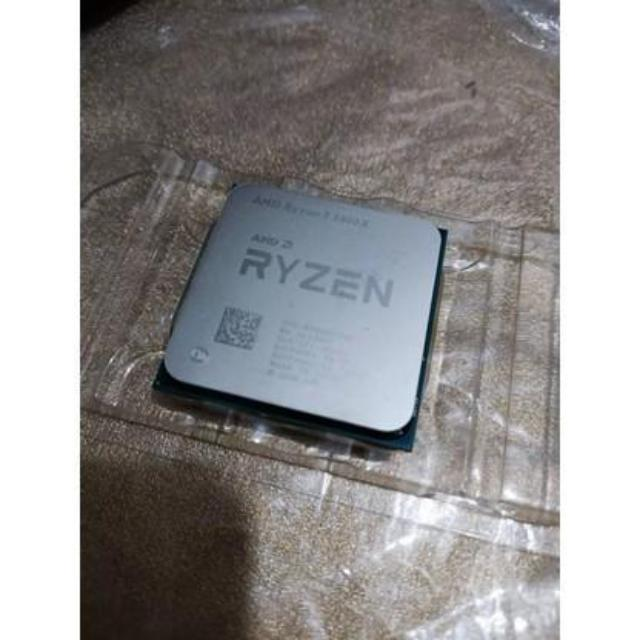CPU: (163, 178, 446, 446)
